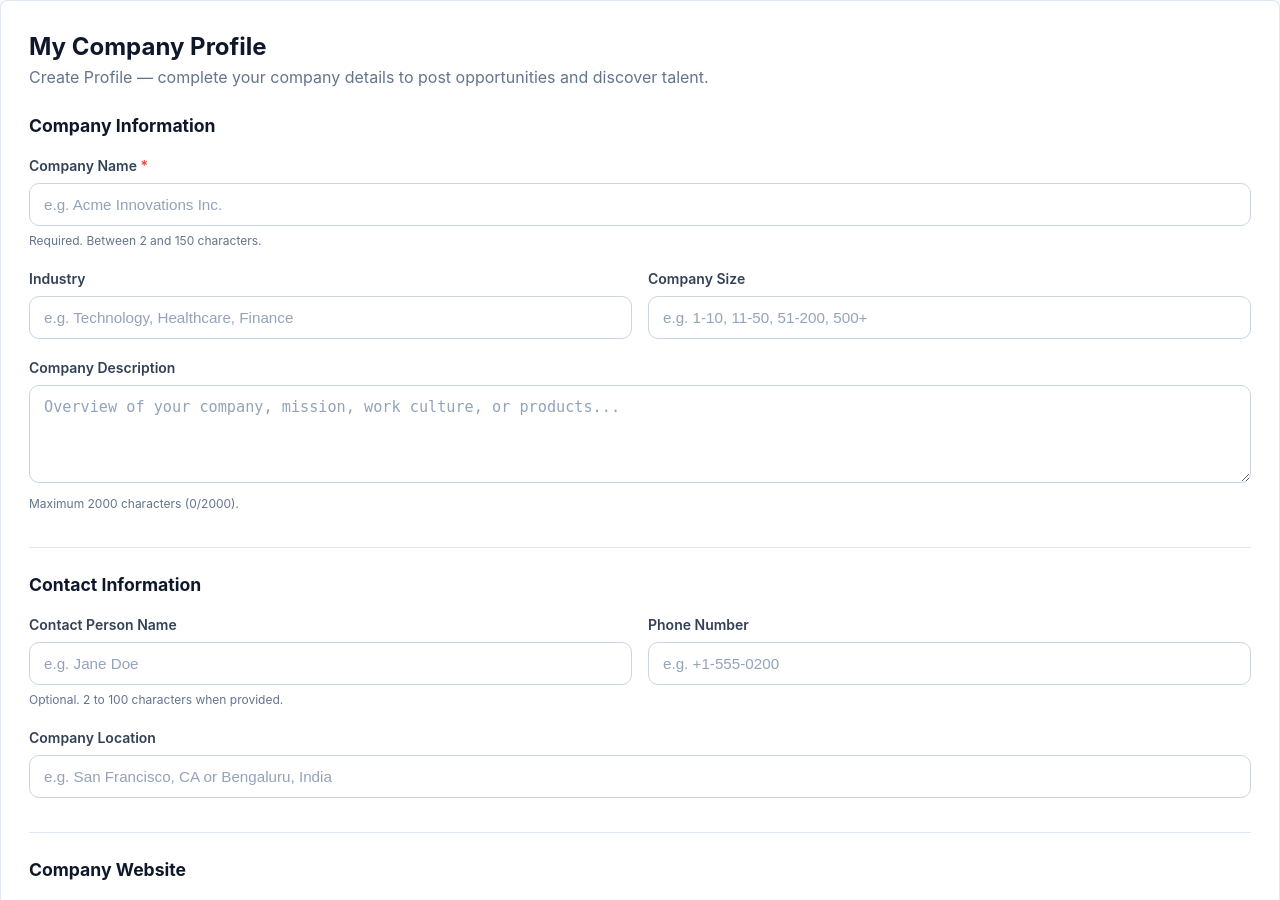
Test case: RecruiterProfilePage — Comprehensive F-04 Scenarios › Creation Workflow & Security › handles 409 conflict during creation with duplicate profile error message
Type "Duplicate Inc." into the field labelled "Company Name *" at (640,205), box [29,183,1251,226]
(page scrolled)
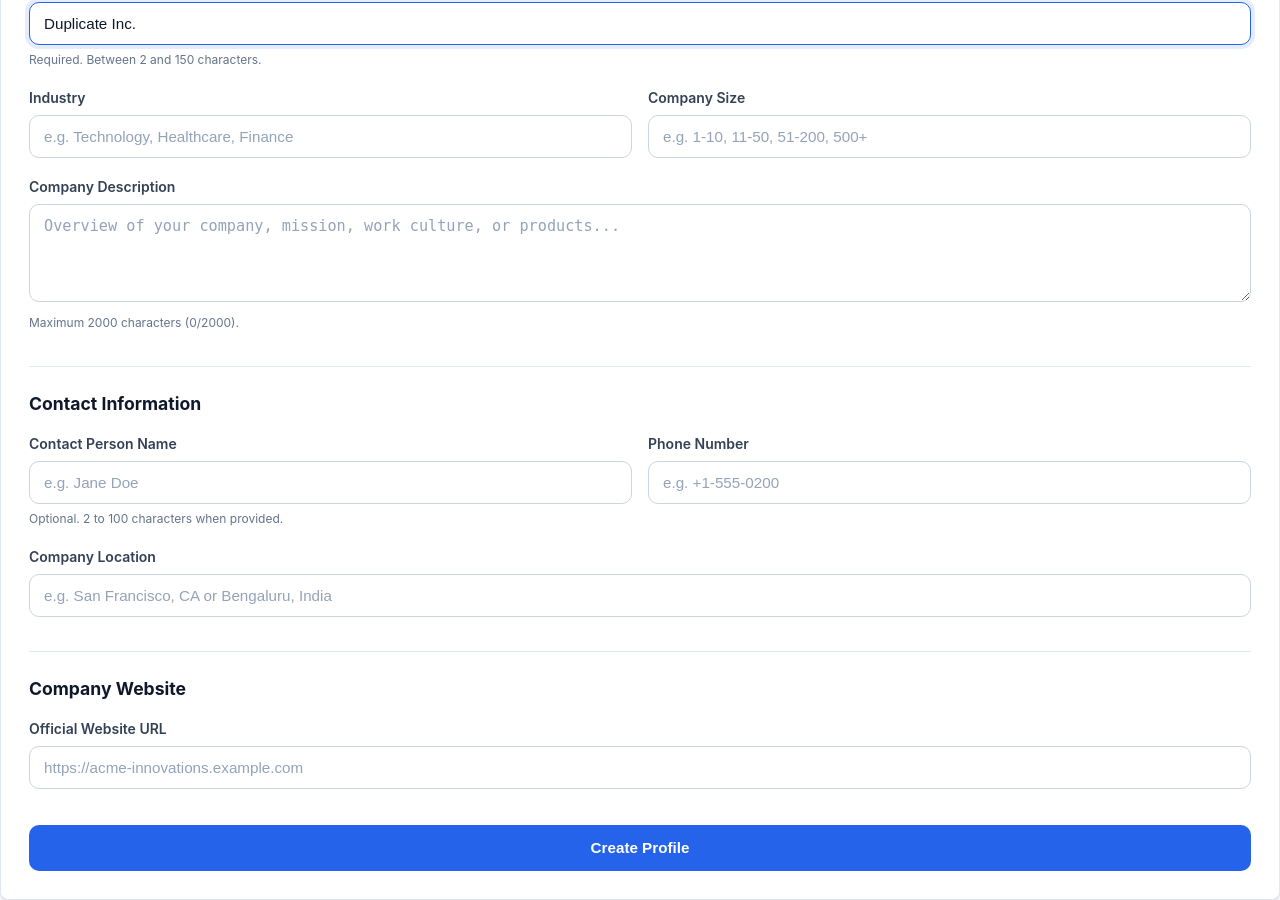
Click the button "Create Profile" at (640,848), box [29,825,1251,871]
(page scrolled)
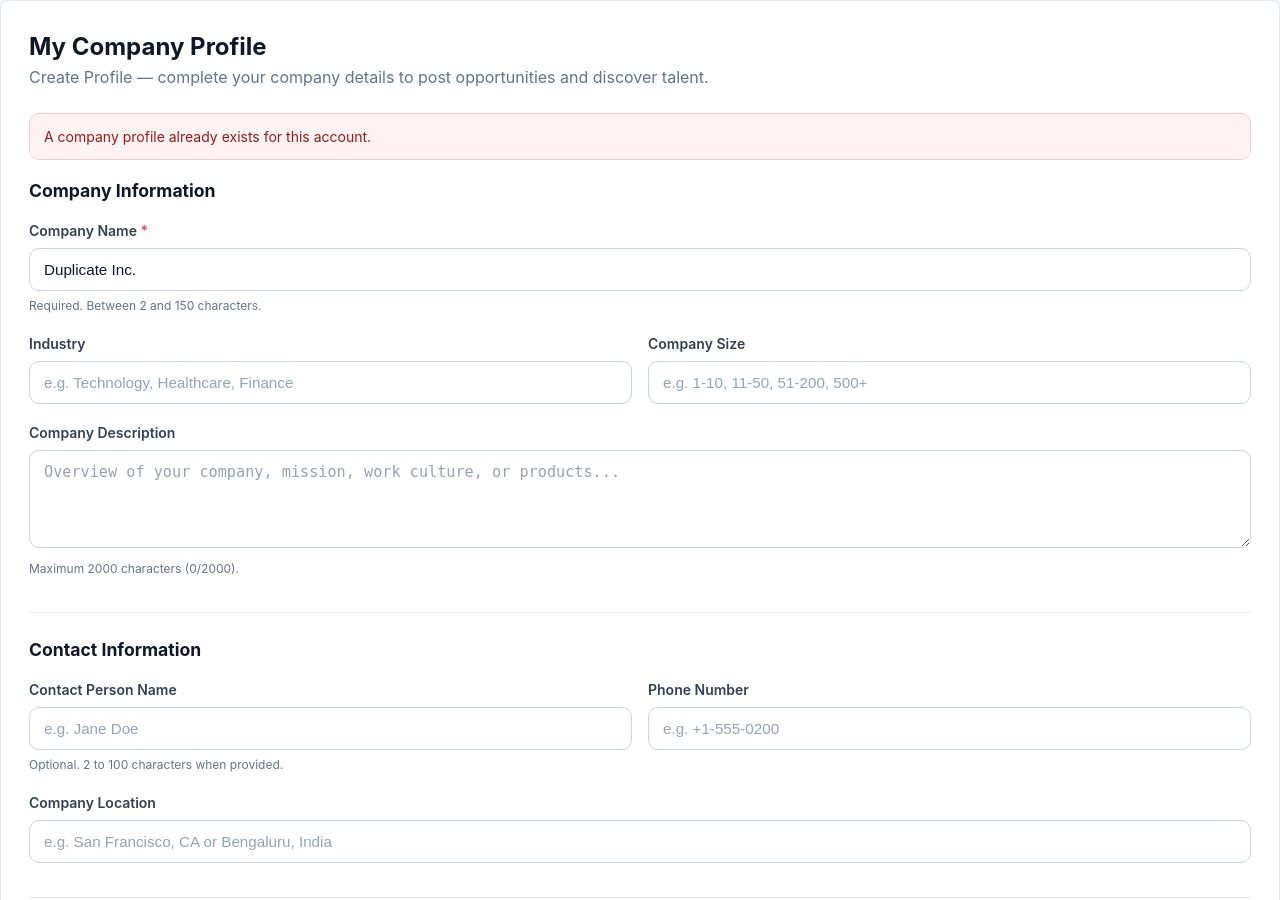
Expected: the message reads "A company profile already exists for this account.", [44,128,371,145]
